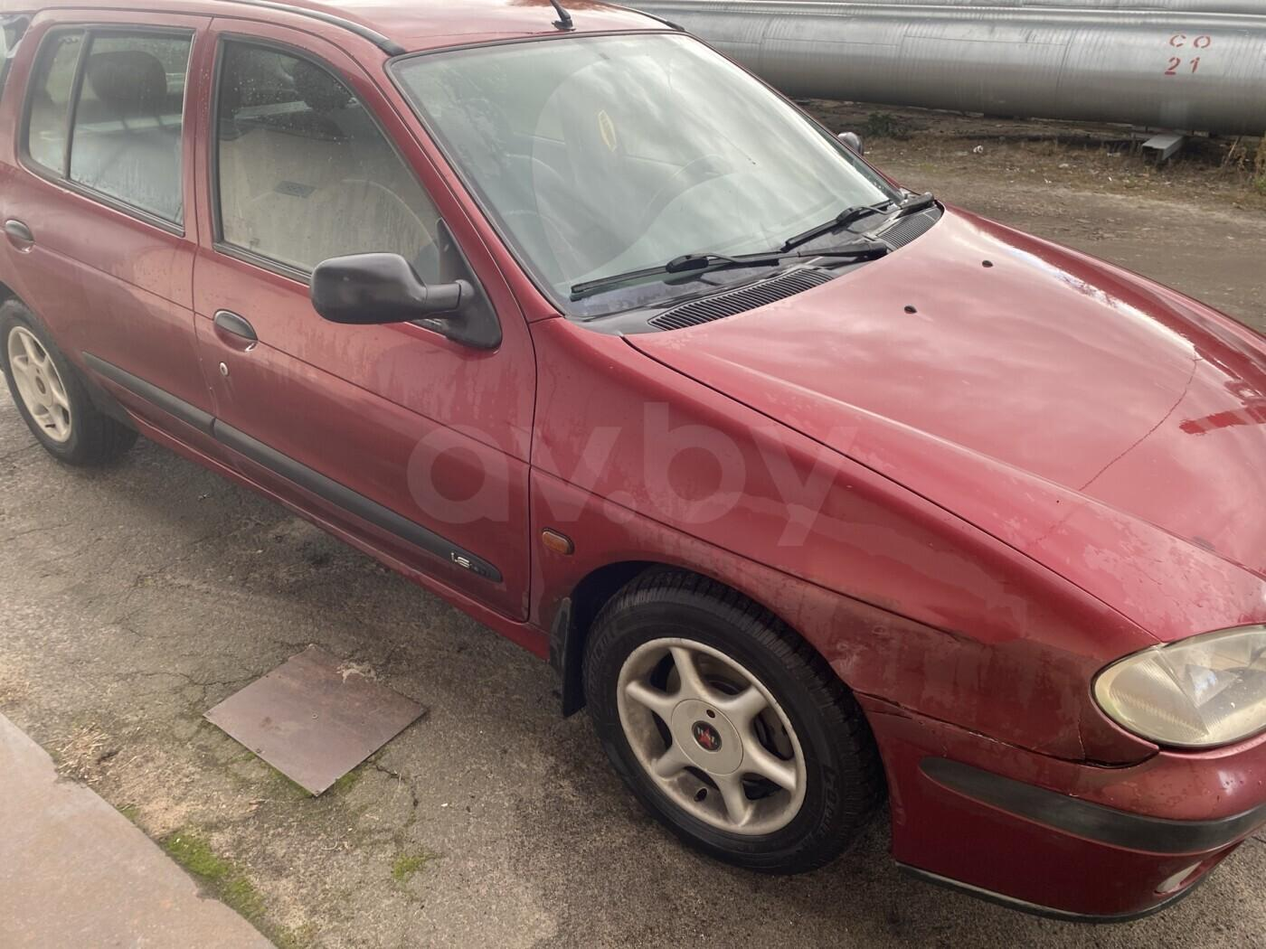Megane_1999-2003: (0, 0, 1266, 927)
